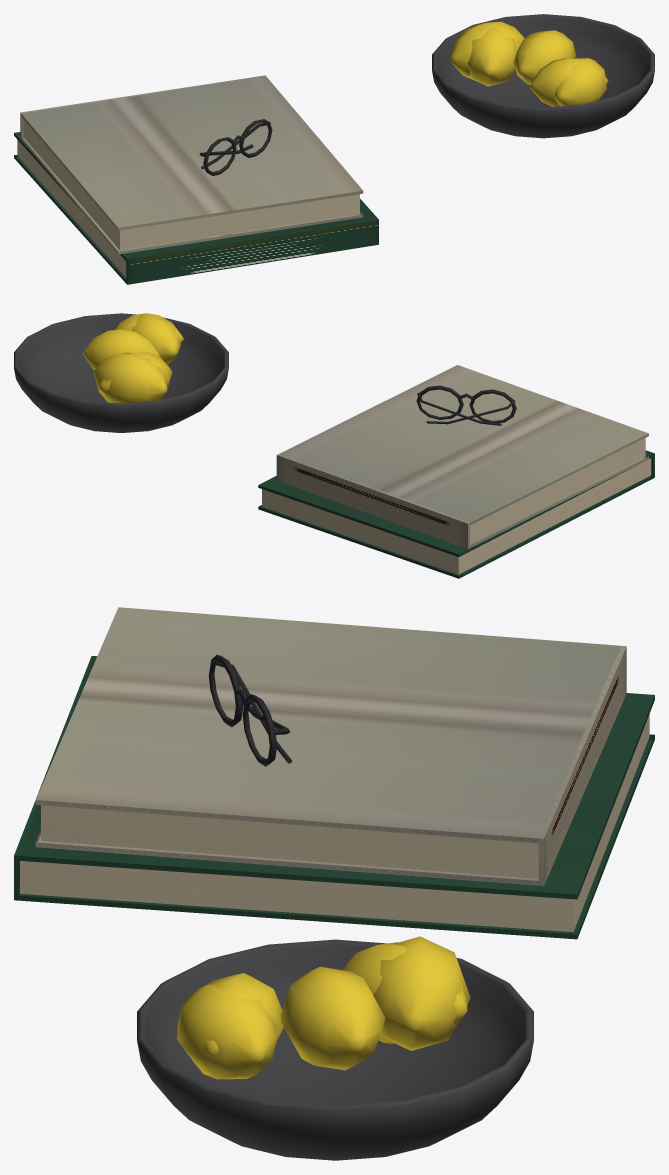
Rendered from decor_c_vignette_coffee.gltf.
The picture shows the model from 3 angles, top to bottom: view 1: azimuth 30°, elevation 25°; view 2: azimuth 150°, elevation 25°; view 3: azimuth 270°, elevation 25°; orthographic projection. The views are drawn at different scales.
Visible parts, largest first — view 1: DecorC_VignetteCoffee_Book02_Spines_NoCollide, DecorC_VignetteCoffee_Bowl01_Charcoal_NoCollide, DecorC_VignetteCoffee_Book01_Spines_NoCollide, DecorC_VignetteCoffee_Lemon02_Lemon_NoCollide, DecorC_VignetteCoffee_Lemon01_Lemon_NoCollide, DecorC_VignetteCoffee_Lemon04_Lemon_NoCollide, DecorC_VignetteCoffee_Lemon03_Lemon_NoCollide, DecorC_VignetteCoffee_Lemon05_Lemon_NoCollide, DecorC_VignetteCoffee_Spectacles01_Black_NoCollide; view 2: DecorC_VignetteCoffee_Book02_Spines_NoCollide, DecorC_VignetteCoffee_Bowl01_Charcoal_NoCollide, DecorC_VignetteCoffee_Book01_Spines_NoCollide, DecorC_VignetteCoffee_Lemon03_Lemon_NoCollide, DecorC_VignetteCoffee_Lemon01_Lemon_NoCollide, DecorC_VignetteCoffee_Spectacles01_Black_NoCollide, DecorC_VignetteCoffee_Lemon05_Lemon_NoCollide, DecorC_VignetteCoffee_Lemon02_Lemon_NoCollide; view 3: DecorC_VignetteCoffee_Book02_Spines_NoCollide, DecorC_VignetteCoffee_Bowl01_Charcoal_NoCollide, DecorC_VignetteCoffee_Book01_Spines_NoCollide, DecorC_VignetteCoffee_Lemon01_Lemon_NoCollide, DecorC_VignetteCoffee_Lemon03_Lemon_NoCollide, DecorC_VignetteCoffee_Lemon04_Lemon_NoCollide, DecorC_VignetteCoffee_Spectacles01_Black_NoCollide, DecorC_VignetteCoffee_Lemon02_Lemon_NoCollide, DecorC_VignetteCoffee_Lemon05_Lemon_NoCollide.
Part boxes in pixels (x1,y1,x2,y2): DecorC_VignetteCoffee_Book02_Spines_NoCollide: (20,75,363,254); DecorC_VignetteCoffee_Bowl01_Charcoal_NoCollide: (432,14,654,138); DecorC_VignetteCoffee_Book01_Spines_NoCollide: (14,132,378,284); DecorC_VignetteCoffee_Lemon02_Lemon_NoCollide: (467,27,516,86); DecorC_VignetteCoffee_Lemon01_Lemon_NoCollide: (513,30,575,84); DecorC_VignetteCoffee_Lemon04_Lemon_NoCollide: (555,58,606,106); DecorC_VignetteCoffee_Lemon03_Lemon_NoCollide: (450,21,524,80); DecorC_VignetteCoffee_Lemon05_Lemon_NoCollide: (530,58,608,106); DecorC_VignetteCoffee_Spectacles01_Black_NoCollide: (199,119,272,175); DecorC_VignetteCoffee_Book02_Spines_NoCollide: (276,365,648,549); DecorC_VignetteCoffee_Bowl01_Charcoal_NoCollide: (14,313,228,432); DecorC_VignetteCoffee_Book01_Spines_NoCollide: (258,450,654,578); DecorC_VignetteCoffee_Lemon03_Lemon_NoCollide: (94,352,167,403); DecorC_VignetteCoffee_Lemon01_Lemon_NoCollide: (82,329,160,370); DecorC_VignetteCoffee_Spectacles01_Black_NoCollide: (416,385,516,425); DecorC_VignetteCoffee_Lemon05_Lemon_NoCollide: (131,314,180,364); DecorC_VignetteCoffee_Lemon02_Lemon_NoCollide: (99,352,172,400); DecorC_VignetteCoffee_Book02_Spines_NoCollide: (35,607,626,886); DecorC_VignetteCoffee_Bowl01_Charcoal_NoCollide: (137,939,533,1160); DecorC_VignetteCoffee_Book01_Spines_NoCollide: (14,656,654,939); DecorC_VignetteCoffee_Lemon01_Lemon_NoCollide: (280,966,385,1070); DecorC_VignetteCoffee_Lemon03_Lemon_NoCollide: (373,936,470,1050); DecorC_VignetteCoffee_Lemon04_Lemon_NoCollide: (177,984,277,1079); DecorC_VignetteCoffee_Spectacles01_Black_NoCollide: (208,655,292,766); DecorC_VignetteCoffee_Lemon02_Lemon_NoCollide: (342,942,467,1043); DecorC_VignetteCoffee_Lemon05_Lemon_NoCollide: (196,973,283,1056).
Bounding box in the file's own units: 0.775 × 0.1103 × 0.4137.
Materials: 4 (1 with a texture image).
